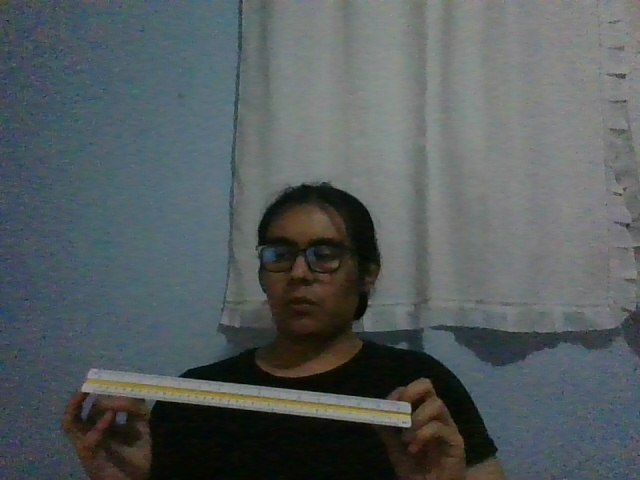regla: (79, 367, 412, 428)
